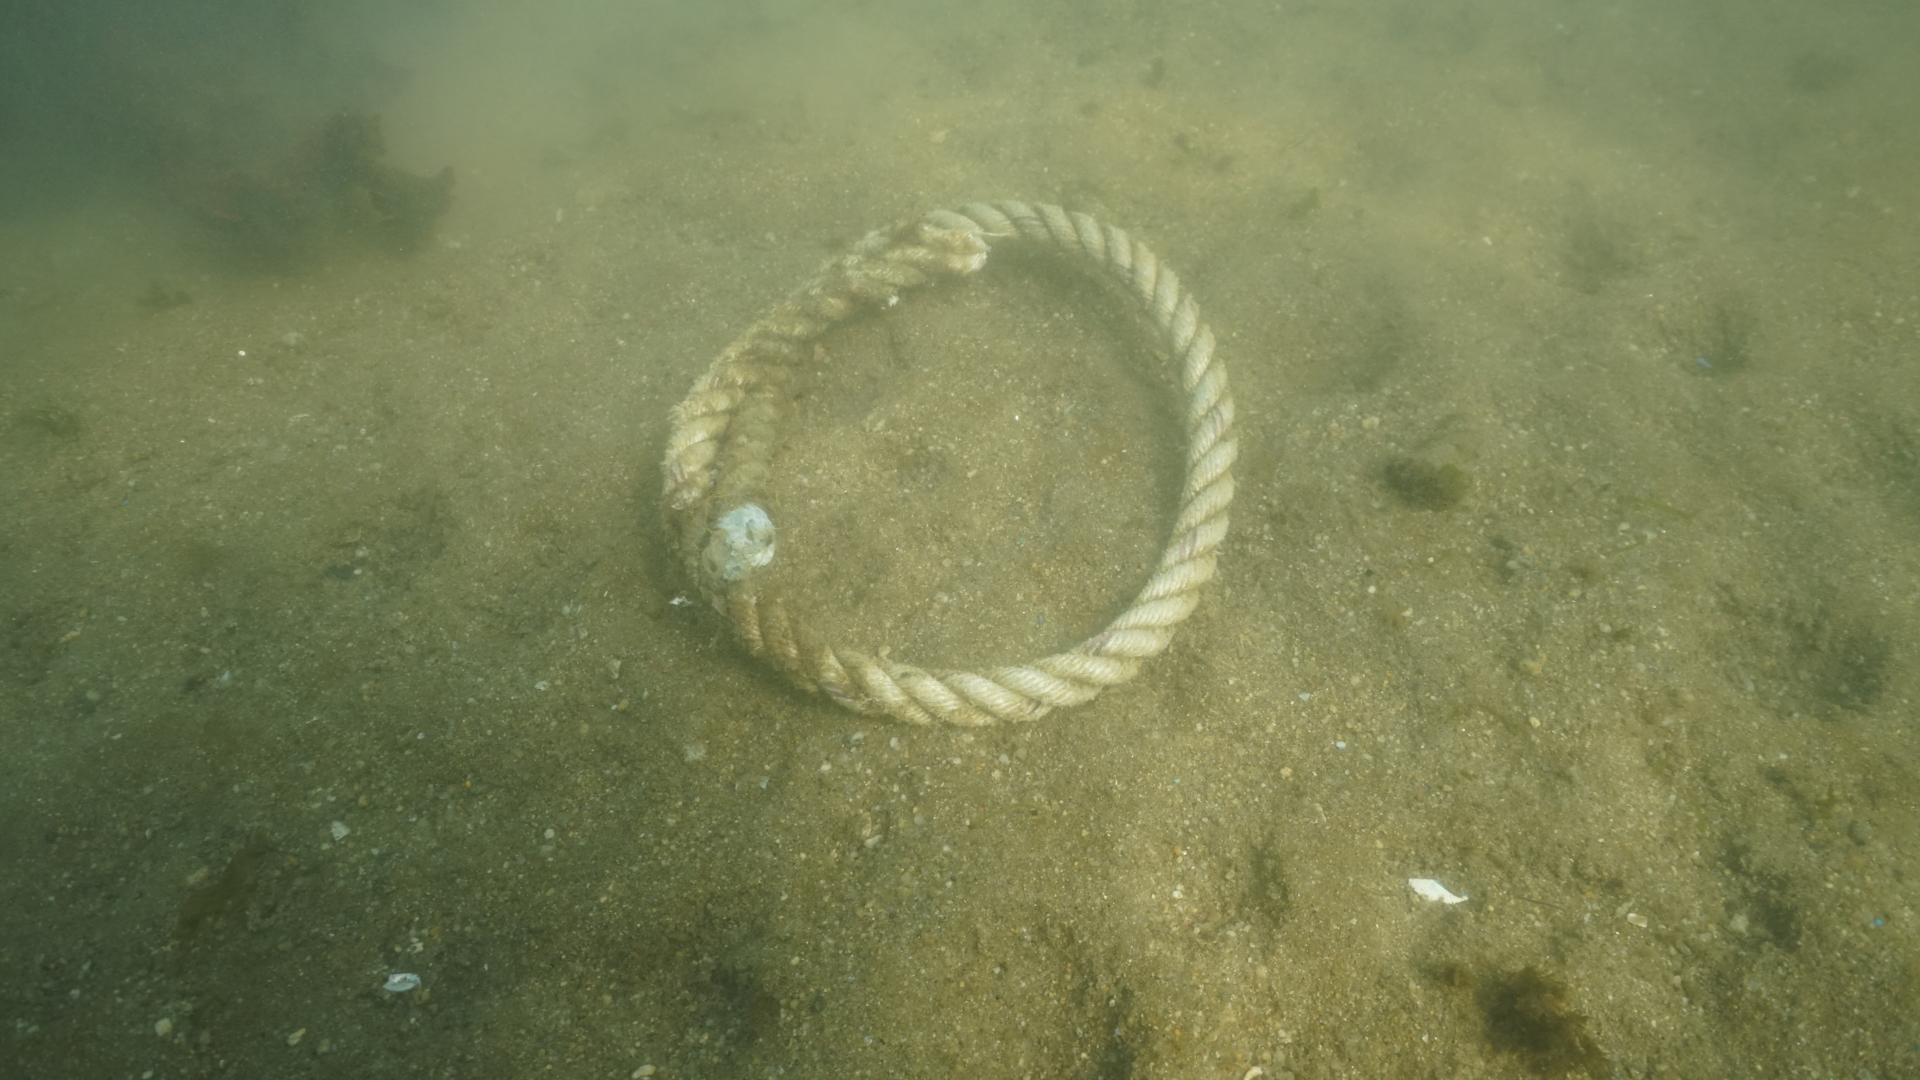bundle of ropes: (647, 189, 1240, 733)
